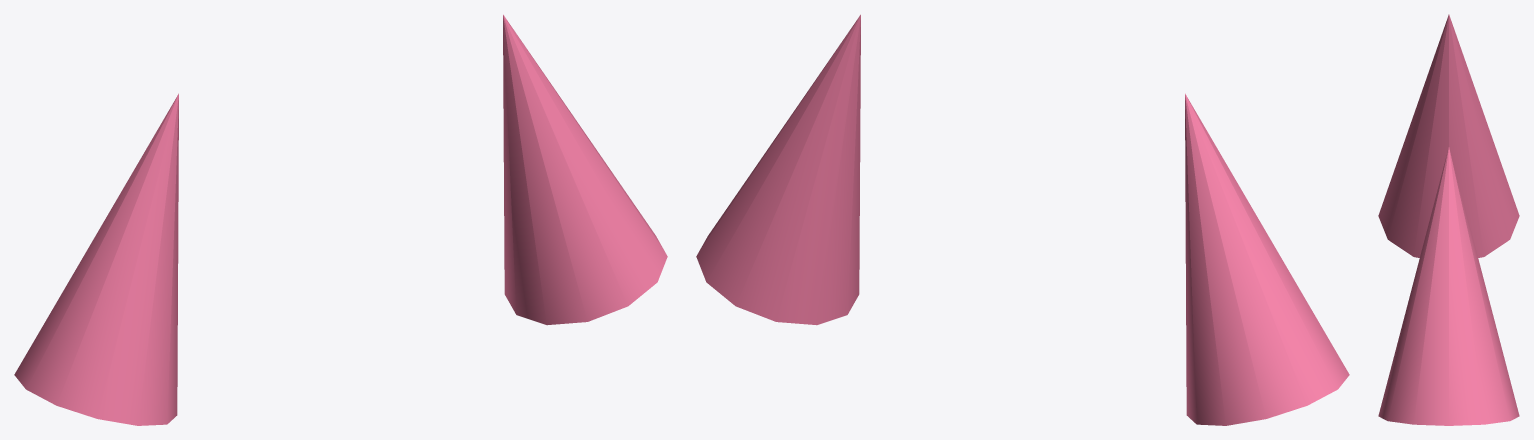
File: acessorio-chifres.glb
3 views of the same model, side by side, from view 1: azimuth 30°, elevation 25°; view 2: azimuth 150°, elevation 25°; view 3: azimuth 270°, elevation 25° (orthographic). The views are drawn at different scales.
Parts seen in each view (by area): view 1: ChifreEsquerdo, ChifreDireito; view 2: ChifreEsquerdo, ChifreDireito; view 3: ChifreDireito, ChifreEsquerdo.
Boxes of the visible parts, box(x1,y1,x2,y2) form: ChifreEsquerdo: box(14, 93, 178, 425); ChifreDireito: box(503, 14, 667, 325); ChifreEsquerdo: box(1185, 93, 1349, 425); ChifreDireito: box(696, 14, 860, 325); ChifreDireito: box(1378, 147, 1519, 425); ChifreEsquerdo: box(1378, 14, 1519, 257).
Size of the model in its own units: 1.21 by 0.5573 by 0.28.
